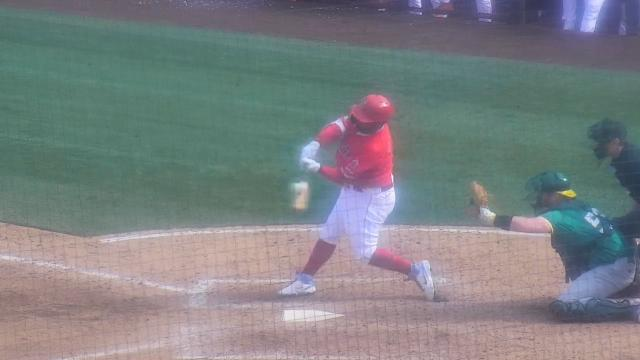ball: (287, 177, 313, 195)
bat: (294, 164, 312, 210)
